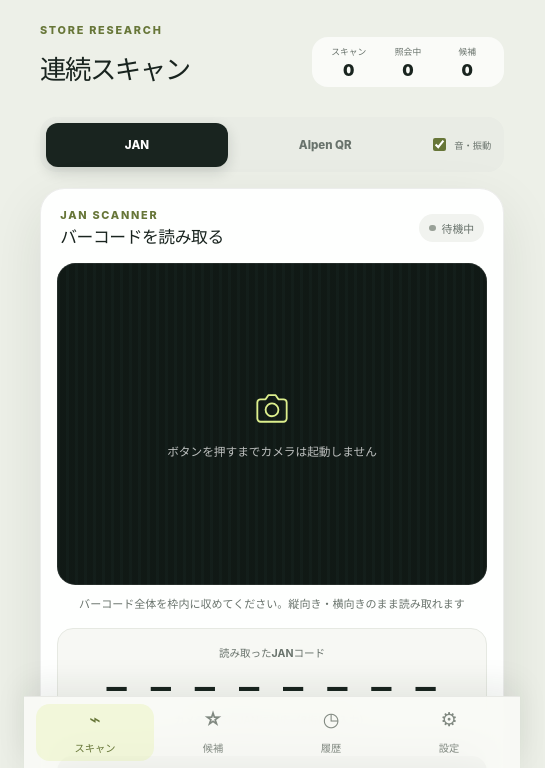
Test: application layout › provides scan, candidate, history and settings bottom navigation
Expected: the heading "連続スキャン" is shown, x1=40 y1=48 x2=190 y2=87
Expected: the navigation bar named "メインナビゲーション" is shown, x1=24 y1=696 x2=520 y2=767
Click the button "☆ 候補".
click(213, 732)  # box x1=154 y1=704 x2=272 y2=761
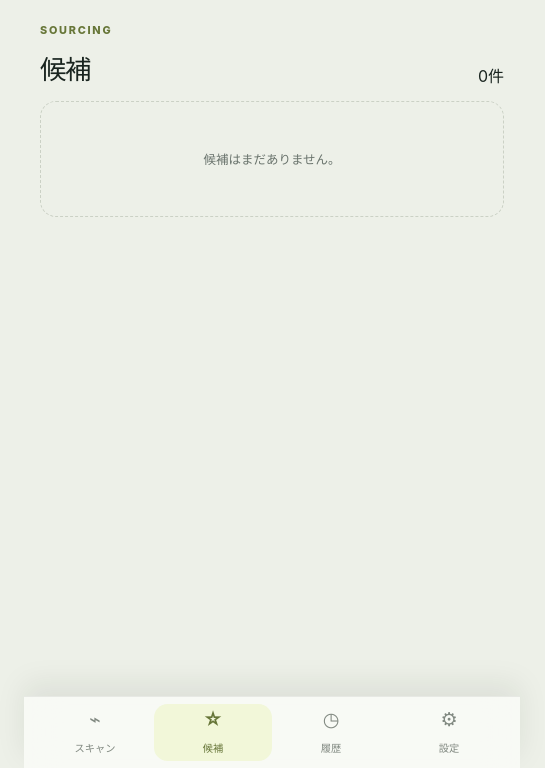
Expected: the heading "候補" is shown, x1=40 y1=53 x2=90 y2=85
Click the button "◷ 履歴".
click(331, 732)  # box x1=272 y1=704 x2=390 y2=761
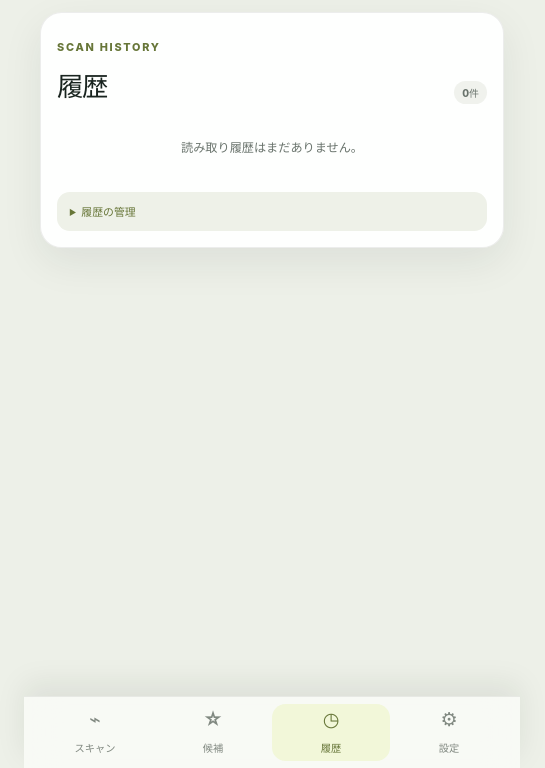
Expected: the heading "履歴" is shown, x1=57 y1=70 x2=107 y2=102
Expected: the heading "履歴の管理" is shown, x1=57 y1=192 x2=487 y2=230
Click the button "⚙ 設定".
click(449, 732)  # box x1=390 y1=704 x2=508 y2=761
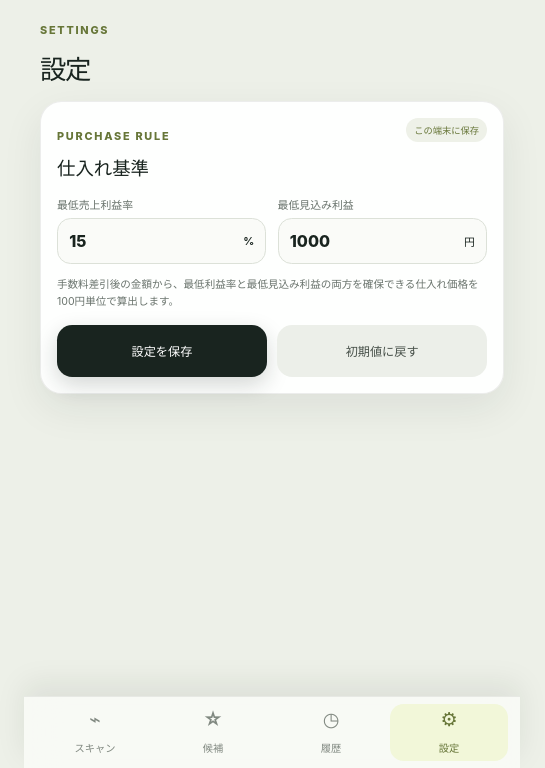
Expected: the heading "設定" is shown, x1=40 y1=53 x2=90 y2=85
Expected: the heading "仕入れ基準" is shown, x1=57 y1=157 x2=149 y2=179
